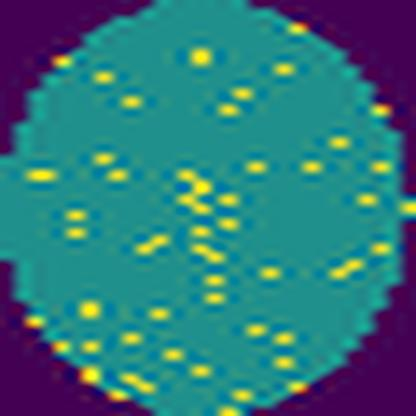Scratch: (172, 159, 228, 309)
